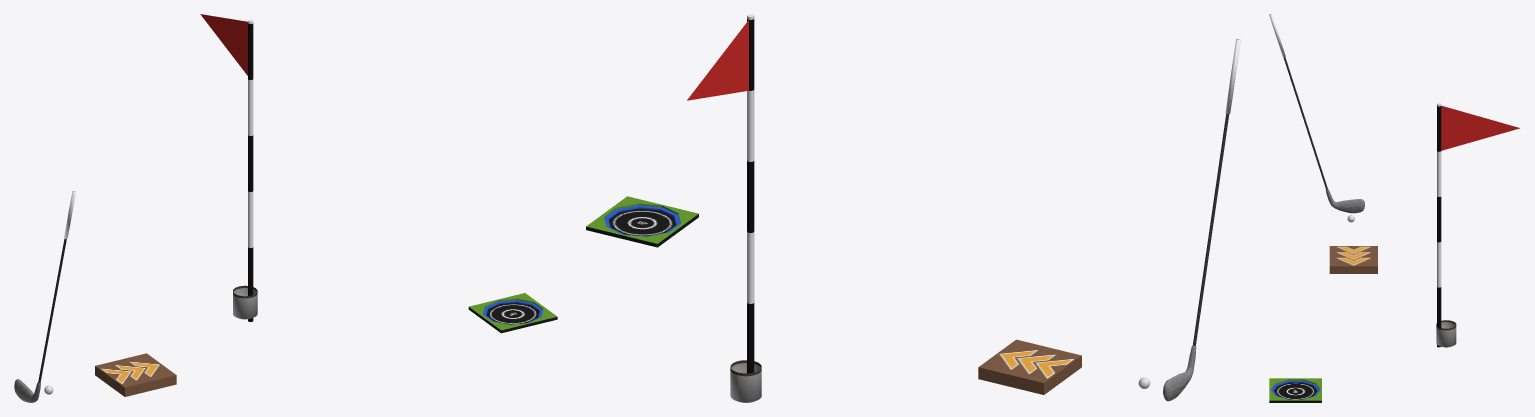
The model's file is level.glb.
3 views of the same model, side by side, from view 1: azimuth 30°, elevation 25°; view 2: azimuth 150°, elevation 25°; view 3: azimuth 270°, elevation 25° (orthographic). The views are drawn at different scales.
Visible parts, largest first — view 1: speed, pole, flag, trampoline_sus, trampoline, hole; view 2: speed, pole, flag, trampoline_sus, trampoline, hole, Cylinder, BezierCurve; view 3: flag, speed, pole, trampoline_sus, trampoline, hole, BezierCurve, Cylinder.
Part boxes in pixels (<box>): speed: <box>95,353,176,396</box>; pole: <box>248,19,253,321</box>; flag: <box>200,14,247,75</box>; trampoline_sus: <box>468,293,557,333</box>; trampoline: <box>486,302,539,324</box>; hole: <box>233,285,257,319</box>; speed: <box>978,339,1081,394</box>; pole: <box>747,14,754,373</box>; flag: <box>687,20,748,100</box>; trampoline_sus: <box>586,196,698,247</box>; trampoline: <box>609,208,675,236</box>; hole: <box>730,360,761,402</box>; Cylinder: <box>1192,113,1229,346</box>; BezierCurve: <box>1163,345,1196,401</box>; flag: <box>1441,105,1519,150</box>; speed: <box>1329,246,1377,273</box>; pole: <box>1437,102,1441,347</box>; trampoline_sus: <box>1269,378,1321,402</box>; trampoline: <box>1274,382,1317,399</box>; hole: <box>1436,320,1456,347</box>; BezierCurve: <box>1325,189,1364,213</box>; Cylinder: <box>1283,57,1327,189</box>.
Size of what is drawn, in the model's own units: 45.46 by 26.82 by 25.18.
14 materials, 2 textured.
